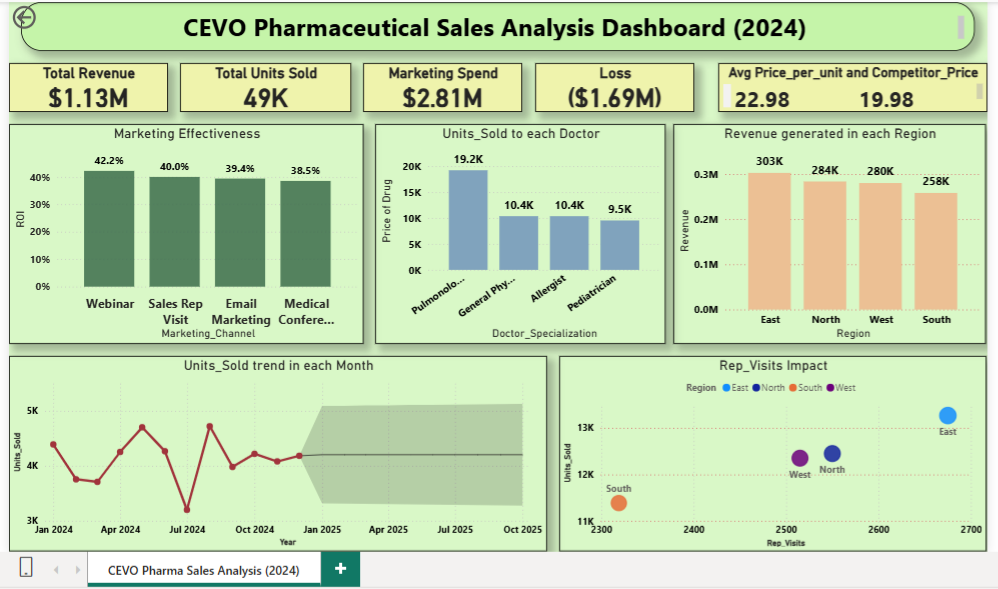

Layout of this report page (visuals, bound fields, positions):
{"tool":"powerbi","page":{"name":"CEVO Pharma Sales Analysis (2024)","canvas":[1280,720],"ordinal":0},"visuals":[{"type":"textbox","box":[16,0,1248,64],"z":0},{"type":"card","title":"Total Revenue","fields":{"Values":["Sum(cevo_asthma_drug_sales_2024__2.Revenue)"]},"box":[0,80,208,64],"z":1000},{"type":"card","title":"Total Units Sold","fields":{"Values":["Sum(cevo_asthma_drug_sales_2024__2.Units_Sold)"]},"box":[224,80,224,64],"z":2000},{"type":"card","title":"Marketing Spend","fields":{"Values":["Sum(cevo_asthma_drug_sales_2024__2.Marketing_Spend)"]},"box":[464,80,208,64],"z":3000},{"type":"card","title":"Loss","fields":{"Values":["cevo_asthma_drug_sales_2024__2.Loss"]},"box":[688,80,208,64],"z":4000},{"type":"multiRowCard","title":"Avg Price_per_unit and Competitor_Price","fields":{"Values":["Avg(cevo_asthma_drug_sales_2024__2.Price_per_unit)","Avg(cevo_asthma_drug_sales_2024__2.Competitor_Price)"]},"box":[928,80,352,64],"z":5000},{"type":"actionButton","box":[0,0,100,40],"z":6000},{"type":"clusteredColumnChart","title":"Marketing Effectiveness","fields":{"Category":["cevo_asthma_drug_sales_2024__2.Marketing_Channel"],"Y":["cevo_asthma_drug_sales_2024__2.ROI"]},"box":[0,160,464,288],"z":7000},{"type":"clusteredColumnChart","title":"Units_Sold to each Doctor","fields":{"Y":["Sum(cevo_asthma_drug_sales_2024__2.Units_Sold)"],"Category":["cevo_asthma_drug_sales_2024__2.Doctor_Specialization"]},"box":[479.5,159.8,380.2,288],"z":8000},{"type":"clusteredColumnChart","title":"Revenue generated in each Region","fields":{"Category":["cevo_asthma_drug_sales_2024__2.Region"],"Y":["Sum(cevo_asthma_drug_sales_2024__2.Revenue)"]},"box":[869.8,159.8,409,288],"z":9000},{"type":"lineChart","title":"Units_Sold trend in each Month","fields":{"Category":["cevo_asthma_drug_sales_2024__2.Date.Variation.Date Hierarchy.Year","cevo_asthma_drug_sales_2024__2.Date.Variation.Date Hierarchy.Quarter","cevo_asthma_drug_sales_2024__2.Date.Variation.Date Hierarchy.Month","cevo_asthma_drug_sales_2024__2.Date.Variation.Date Hierarchy.Day"],"Y":["Sum(cevo_asthma_drug_sales_2024__2.Units_Sold)"]},"box":[0,464,704,256],"z":10000},{"type":"scatterChart","title":"Rep_Visits Impact ","fields":{"X":["Sum(cevo_asthma_drug_sales_2024__2.Rep_Visits)"],"Y":["Sum(cevo_asthma_drug_sales_2024__2.Units_Sold)"],"Size":["Sum(cevo_asthma_drug_sales_2024__2.Revenue)"],"Series":["cevo_asthma_drug_sales_2024__2.Region"]},"box":[720,463.7,558.7,256.3],"z":11000}]}

Visuals, with their boxes in screenshot pixels (x1, y1, x2, y2):
textbox: bbox(15, 0, 975, 47)
"Total Revenue" card: bbox(3, 59, 163, 108)
"Total Units Sold" card: bbox(175, 59, 347, 108)
"Marketing Spend" card: bbox(359, 59, 519, 108)
"Loss" card: bbox(532, 59, 692, 108)
"Avg Price_per_unit and Competitor_Price" multiRowCard: bbox(716, 59, 987, 108)
actionButton: bbox(3, 0, 79, 28)
"Marketing Effectiveness" clusteredColumnChart: bbox(3, 120, 359, 342)
"Units_Sold to each Doctor" clusteredColumnChart: bbox(371, 120, 664, 342)
"Revenue generated in each Region" clusteredColumnChart: bbox(671, 120, 986, 342)
"Units_Sold trend in each Month" lineChart: bbox(3, 354, 544, 551)
"Rep_Visits Impact " scatterChart: bbox(556, 354, 986, 551)
